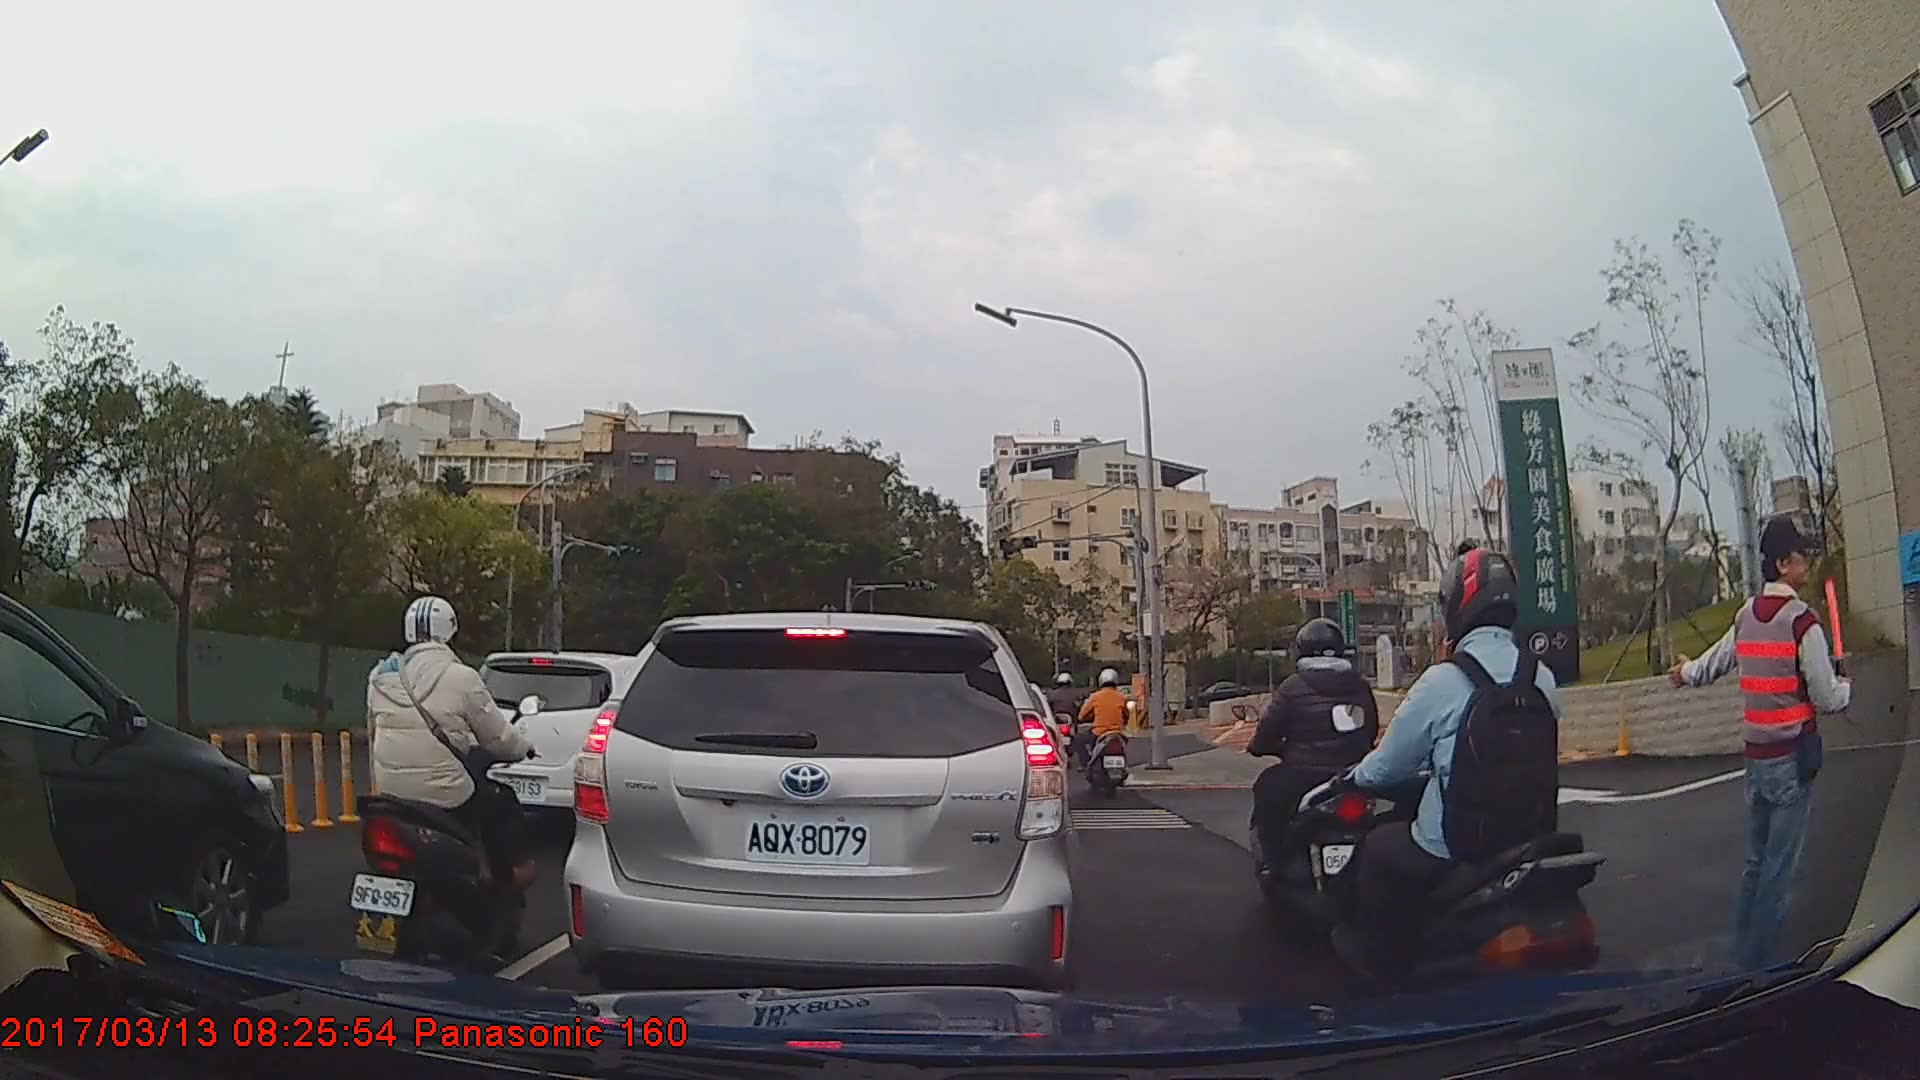pedestrian: (1670, 517, 1860, 988)
rider: (1336, 541, 1604, 1029), (345, 595, 541, 975), (1248, 616, 1384, 942), (1078, 666, 1132, 794), (1044, 671, 1083, 766)
vehicle: (560, 611, 1076, 996), (0, 589, 291, 965), (1185, 678, 1255, 715)
